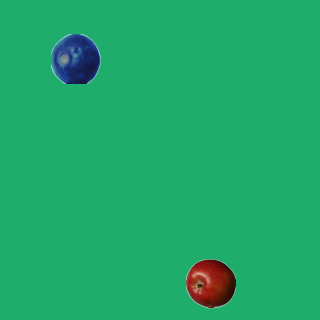Apple Braeburn: (185, 258, 235, 308)
Huckleberry: (50, 33, 100, 83)
